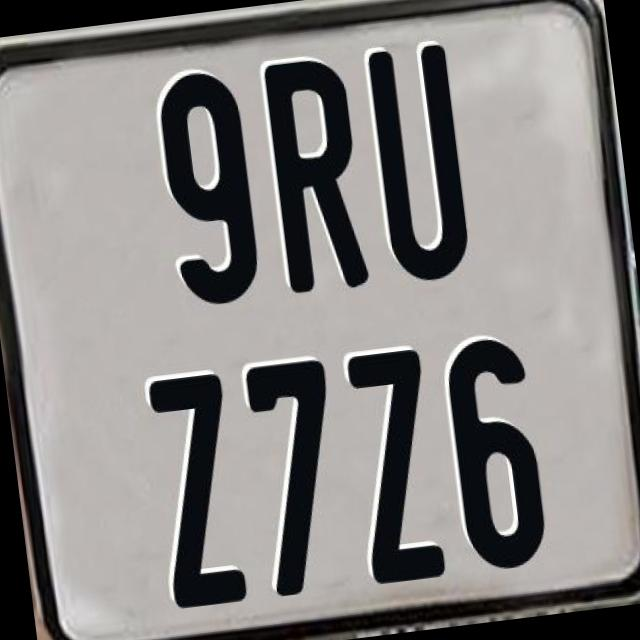6: (438, 334, 550, 578)
7: (244, 354, 354, 594)
9: (154, 64, 268, 314)
R: (262, 56, 368, 300)
U: (366, 39, 481, 290)
Z: (145, 369, 250, 610), (346, 343, 448, 589)
